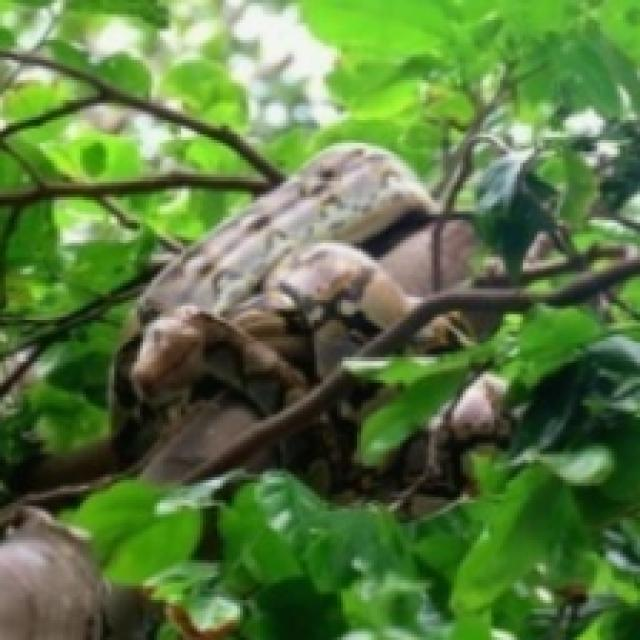reticulated python: (111, 143, 434, 480), (279, 370, 511, 514)
